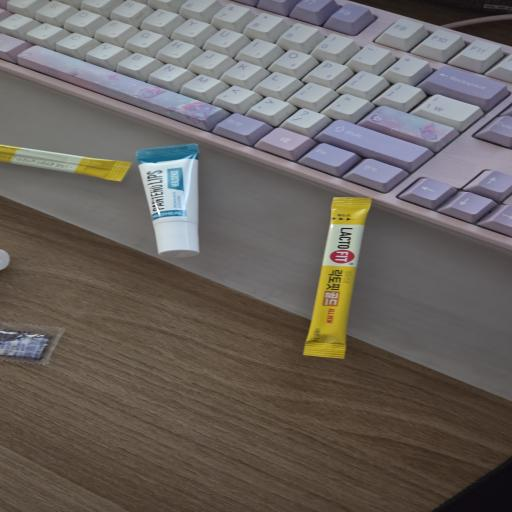lacto: (300, 192, 386, 362), (0, 140, 136, 190)
